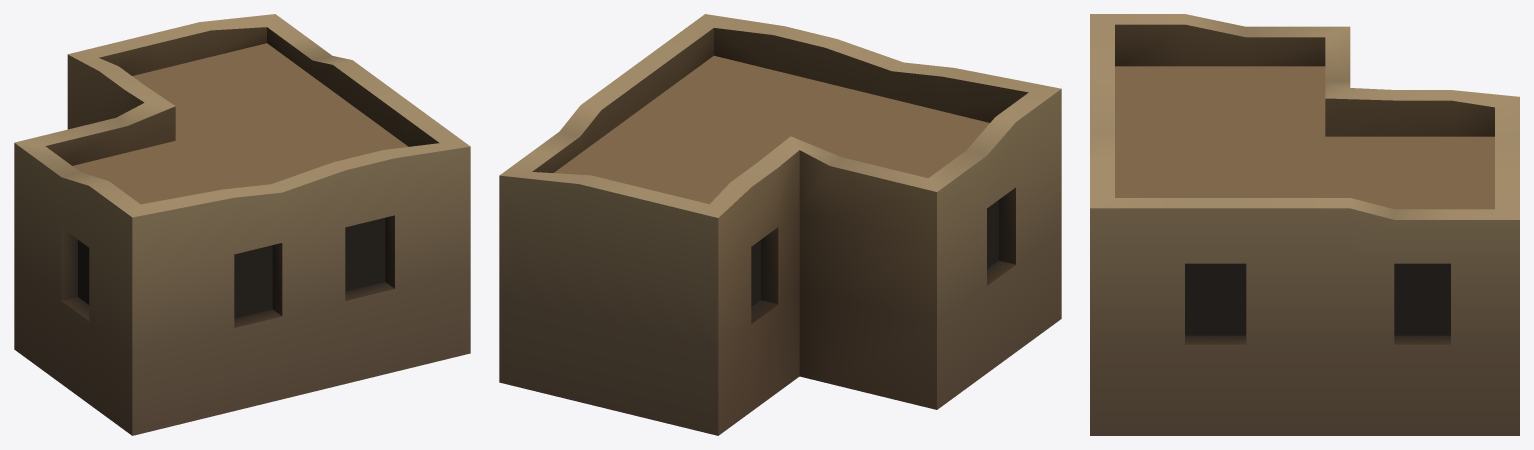
File: buildings-historical-desertbuildingold_v2.glb
3 renders of one model, left to right at view 1: azimuth 30°, elevation 25°; view 2: azimuth 150°, elevation 25°; view 3: azimuth 270°, elevation 25°, orthographic. The views are drawn at different scales.
Visible parts, largest first — view 1: DesertBuildingOld_v2; view 2: DesertBuildingOld_v2; view 3: DesertBuildingOld_v2.
Part boxes in pixels (left/top/right/bottom): DesertBuildingOld_v2: left=14, top=14, right=470, bottom=435; DesertBuildingOld_v2: left=499, top=14, right=1061, bottom=435; DesertBuildingOld_v2: left=1090, top=14, right=1519, bottom=435.
Bounding box in the file's own units: 10.74 × 6.62 × 10.74.
